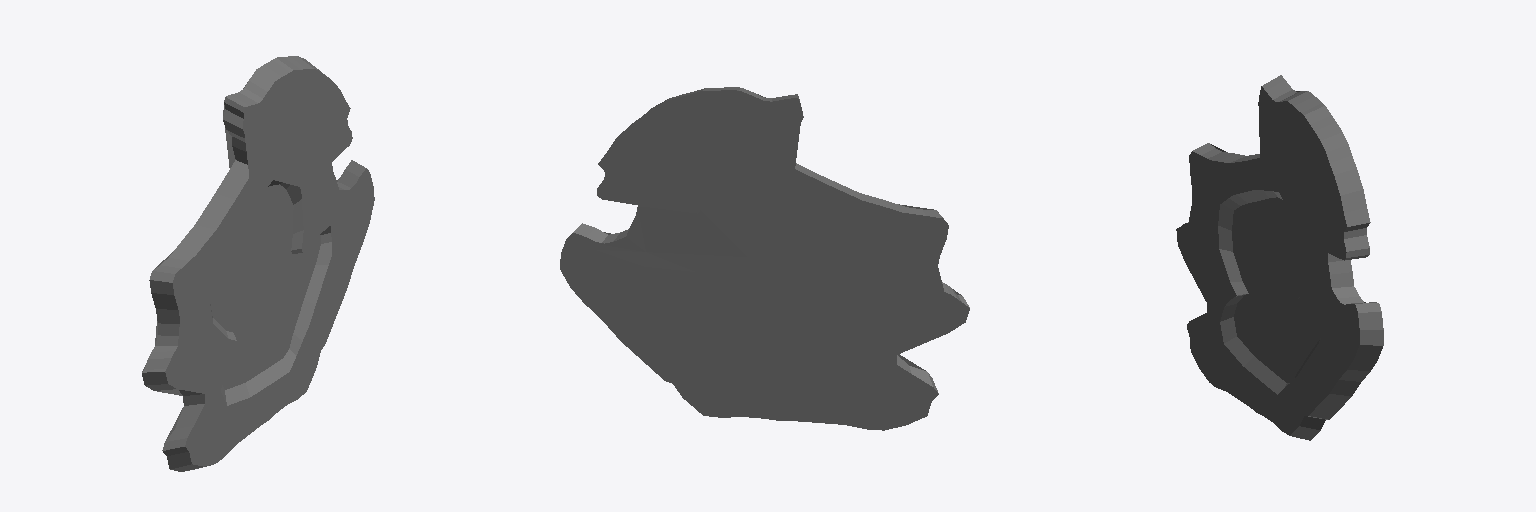
Rendered from plate_low.obj.
The picture shows the model from 3 angles: view 1: azimuth 30°, elevation 25°; view 2: azimuth 150°, elevation 25°; view 3: azimuth 270°, elevation 25°; orthographic projection.
Visible parts, largest first — view 1: plate_low:polySurface462 plate_low:polySurface542 plate_low:poly; view 2: plate_low:polySurface462 plate_low:polySurface542 plate_low:poly; view 3: plate_low:polySurface462 plate_low:polySurface542 plate_low:poly.
Boxes of the visible parts, <box> form: plate_low:polySurface462 plate_low:polySurface542 plate_low:poly: <box>142,56,374,471</box>; plate_low:polySurface462 plate_low:polySurface542 plate_low:poly: <box>560,87,969,430</box>; plate_low:polySurface462 plate_low:polySurface542 plate_low:poly: <box>1176,75,1383,440</box>.
Bounding box in the file's own units: 15.81 × 16.43 × 8.96.